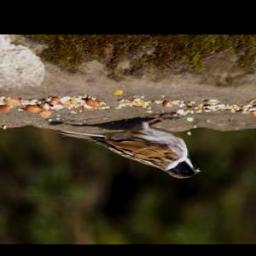Sparrow: (59, 114, 204, 181)
